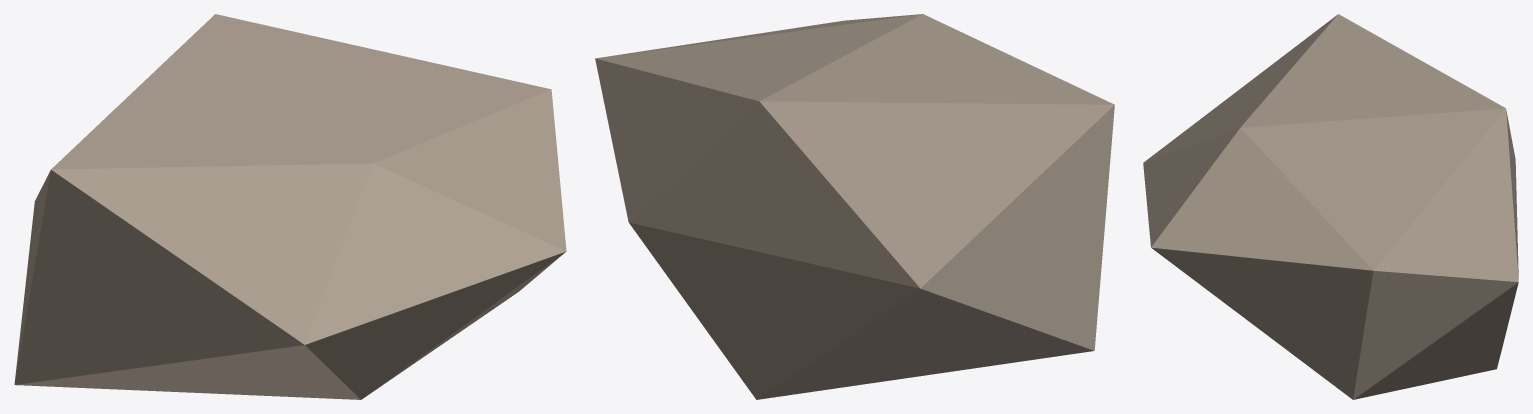
The model's file is rock.glb.
3 views of the same model, side by side, from view 1: azimuth 30°, elevation 25°; view 2: azimuth 150°, elevation 25°; view 3: azimuth 270°, elevation 25° (orthographic). The views are drawn at different scales.
Parts seen in each view (by area): view 1: Rock; view 2: Rock; view 3: Rock.
Boxes of the visible parts, x1,y1,x2,y2 form: Rock: [14, 14, 566, 399]; Rock: [595, 14, 1114, 399]; Rock: [1143, 14, 1518, 399].
Bounding box in the file's own units: 0.857 × 0.4926 × 0.6514.
